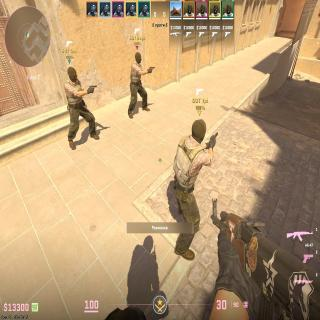T-Body: (176, 120, 207, 260), (64, 66, 86, 142), (130, 52, 147, 116)
T-Head: (192, 119, 206, 143), (67, 66, 78, 82), (135, 52, 141, 63)
